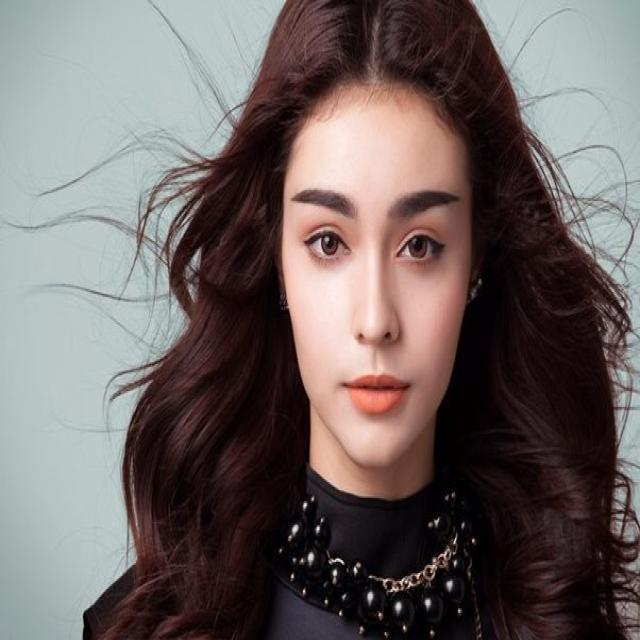Nonhelmet: (247, 0, 508, 488)
